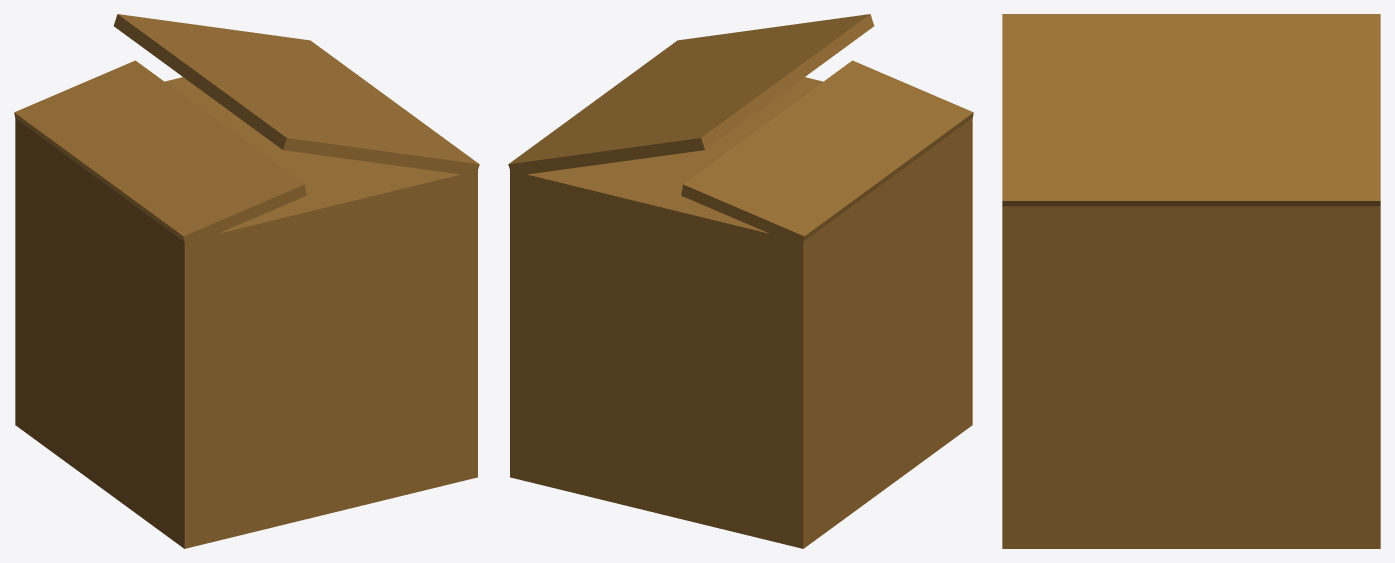
3 renders of one model, left to right at view 1: azimuth 30°, elevation 25°; view 2: azimuth 150°, elevation 25°; view 3: azimuth 270°, elevation 25°, orthographic. The views are drawn at different scales.
Visible parts, largest first — view 1: Cube, Cube.002, Cube.001; view 2: Cube, Cube.002, Cube.001; view 3: Cube, Cube.001.
Part boxes in pixels (box(x1,y1,x2,y2)): Cube: box(15, 77, 477, 548); Cube.002: box(14, 60, 306, 245); Cube.001: box(113, 14, 479, 174); Cube: box(510, 77, 972, 548); Cube.002: box(681, 60, 973, 246); Cube.001: box(508, 14, 874, 176); Cube: box(1002, 206, 1380, 548); Cube.001: box(1002, 14, 1380, 206).
Size of the model in its own units: 1.01 by 1.26 by 1.
